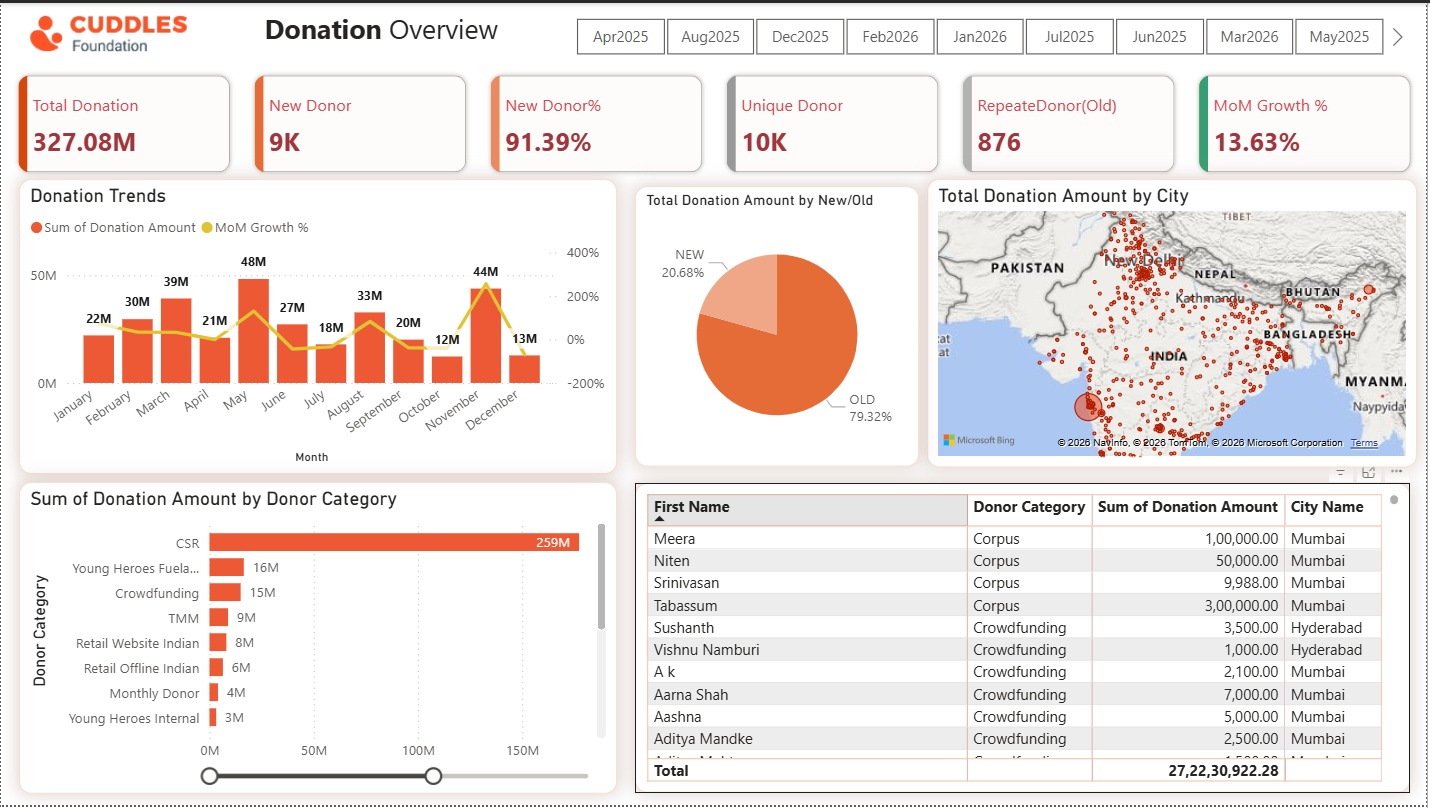

Layout of this report page (visuals, bound fields, positions):
{"tool":"powerbi","page":{"name":"Donation","canvas":[1280,720],"ordinal":0},"visuals":[{"type":"image","box":[11.4,1,169.1,52.3],"z":0},{"type":"textbox","box":[11.7,0.9,479.4,52.1],"z":1000},{"type":"lineClusteredColumnComboChart","title":"Donation Trends","fields":{"Category":["DateTable.Date.Variation.Date Hierarchy.Month"],"Y":["Sum(donation.Donation Amount)"],"Y2":["Mesure.MoM Growth %"]},"box":[16.2,157.7,536.9,265.1],"z":2000},{"type":"clusteredBarChart","fields":{"Y":["Sum(donation.Donation Amount)"],"Category":["donation.Donor Category"]},"box":[16.2,430,536.9,280.1],"z":3000},{"type":"tableEx","fields":{"Values":["donation.First Name","donation.Donor Category","Sum(donation.Donation Amount)","donation.City Name"]},"box":[569.2,430.9,695.8,278.3],"z":4000},{"type":"cardVisual","fields":{"Data":["Sum(donation.Donation Amount)","Mesure.New Donor","Mesure.New Donor%","Mesure.Unique Donor","Mesure.RepeateDonor(Old)","Mesure.MoM Growth %"]},"box":[3.8,53.2,1276.2,111.2],"z":5000},{"type":"slicer","fields":{"Values":["DateTable.Month1"]},"box":[491.1,7.2,773.9,45.8],"z":6000},{"type":"map","title":"Total Donation Amount by City","fields":{"Category":["donation.City Name"],"Size":["Mesure.Total Donation Amount"]},"box":[831.3,158,439.9,258.6],"z":7000},{"type":"pieChart","fields":{"Y":["Mesure.Total Donation Amount"],"Category":["donation.New/Old"]},"box":[569.2,158,255,258.6],"z":8000}]}

Visuals, with their boxes in screenshot pixels (x1, y1, x2, y2), scaled from the page's 1280x720 canvas onto the 1430x808 screenshot:
image: <bbox>13, 1, 202, 60</bbox>
textbox: <bbox>13, 1, 549, 59</bbox>
"Donation Trends" lineClusteredColumnComboChart: <bbox>18, 177, 618, 474</bbox>
clusteredBarChart - Sum(donation.Donation Amount) x donation.Donor Category: <bbox>18, 483, 618, 797</bbox>
tableEx - donation.First Name x donation.Donor Category: <bbox>636, 484, 1413, 796</bbox>
cardVisual - Sum(donation.Donation Amount) x Mesure.New Donor: <bbox>4, 60, 1429, 184</bbox>
slicer - DateTable.Month1: <bbox>549, 8, 1413, 59</bbox>
"Total Donation Amount by City" map: <bbox>929, 177, 1420, 468</bbox>
pieChart - Mesure.Total Donation Amount x donation.New/Old: <bbox>636, 177, 921, 468</bbox>
